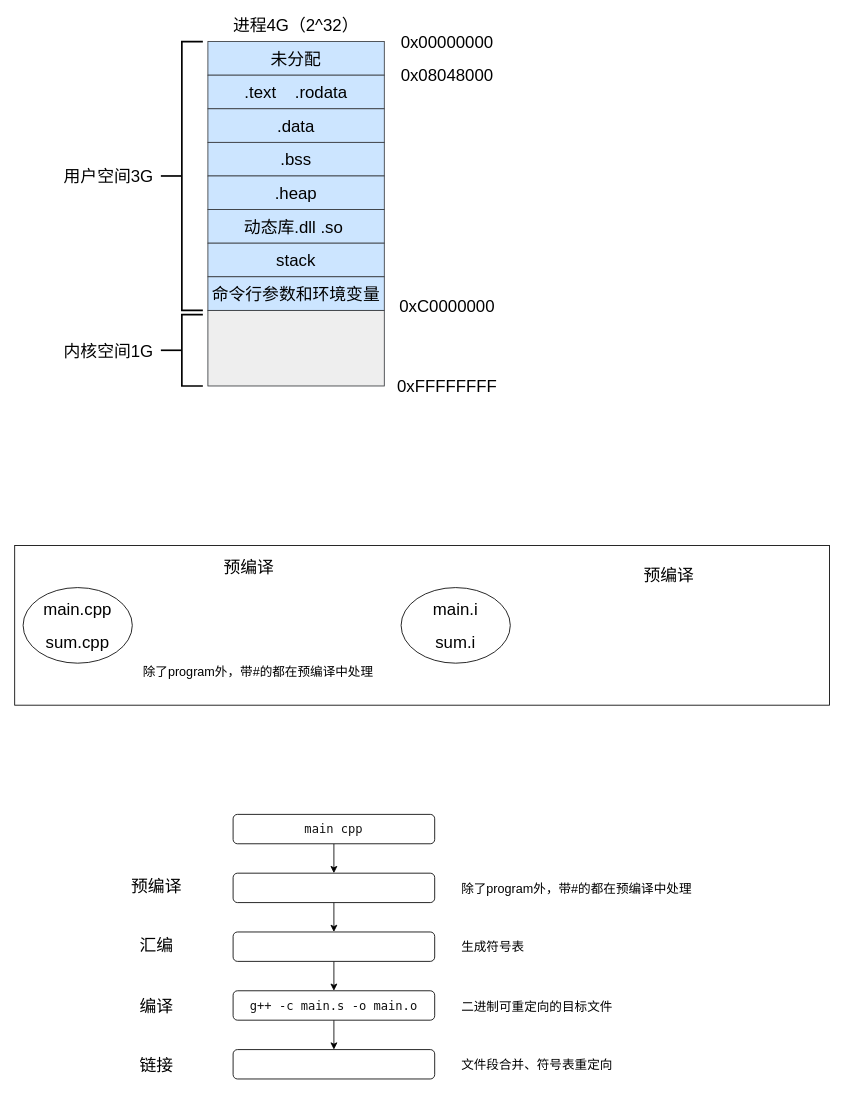
This 844x1094 diagram has some shape labels left out. The shapes that lost their labels are listed below. From the top down, each one's centre as x and y in pixels, then its label:
At point (295, 348): "ZONE_DMA ZONE_NORMAL ZONE_HIGHMEN".
At point (333, 887): "g++ -E main.cpp -o main.i".
At point (333, 946): "g++ -S main.i -o main.s".
At point (333, 1064): "g++ main.o -o out.bin".
